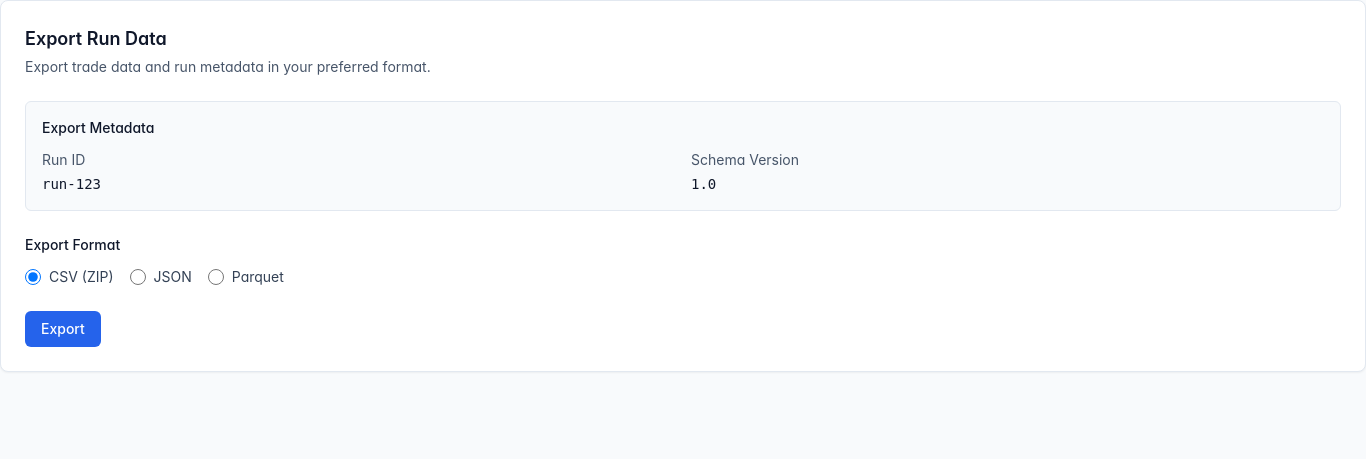
ExportCenter › shows error message on export failure
This screenshot has width=1366, height=459.
Step 1. Click the button with test id "export-button" → click(63, 329), box [25,311,101,347]
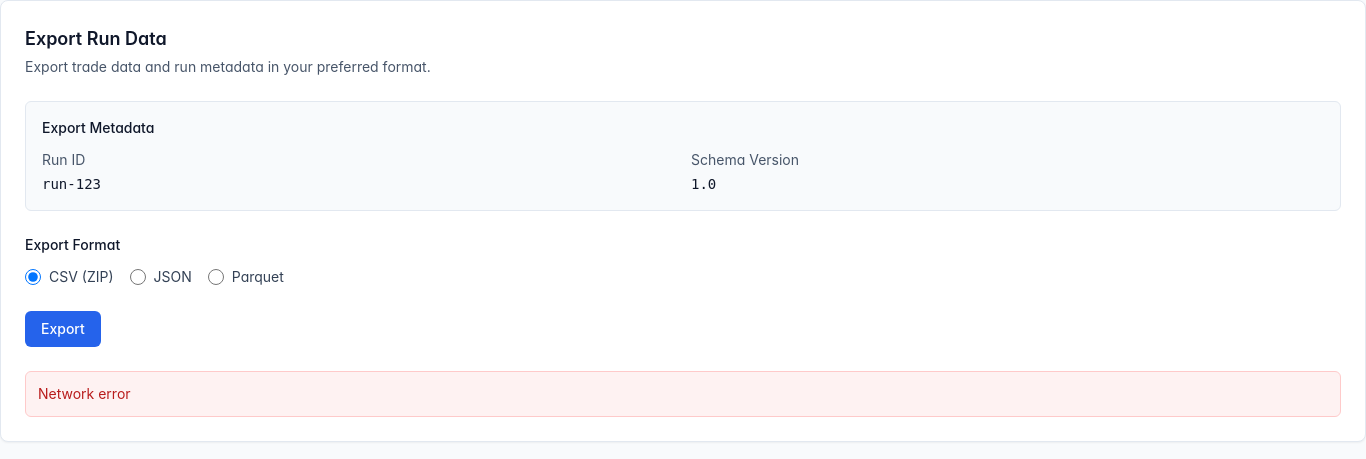
Check: the text "Network error" is shown, box [25,371,1341,417]
Check: the text with test id "export-error-message" reads "Network error", box [38,385,131,402]
